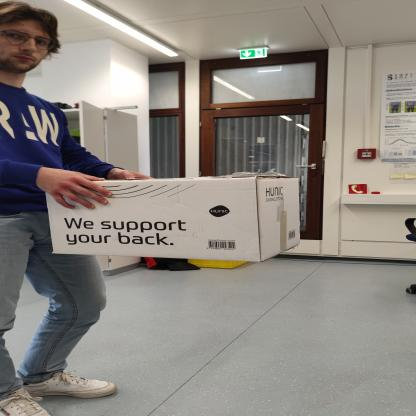box: (27, 159, 320, 273)
